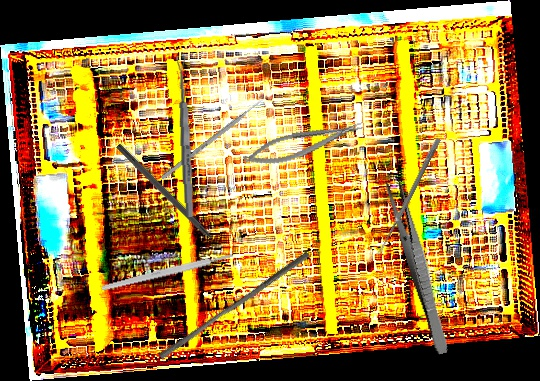Dressing Forceps: (382, 177, 455, 356)
Hook Surgical: (114, 142, 227, 255)
Needle Holder: (240, 116, 367, 172)
Pusher: (157, 245, 311, 365), (160, 94, 269, 181)
Scalpel Handle: (101, 251, 234, 293)
Surgical Spoon: (376, 137, 441, 257), (175, 55, 196, 218)
